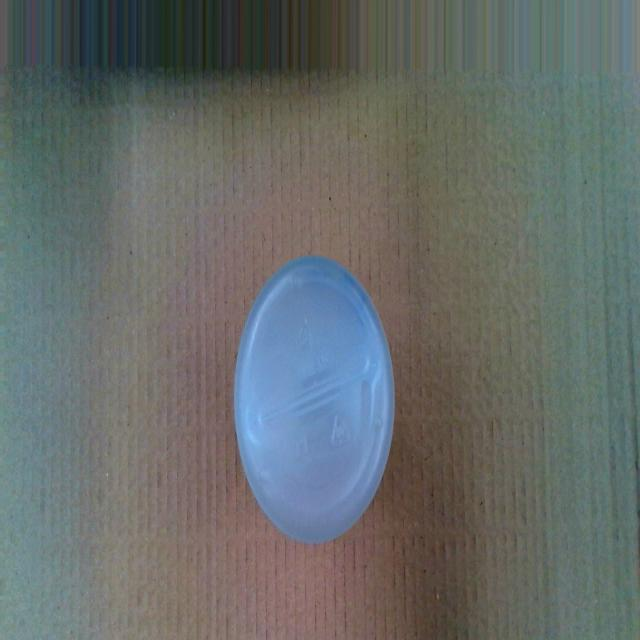bottle: (228, 251, 397, 553)
